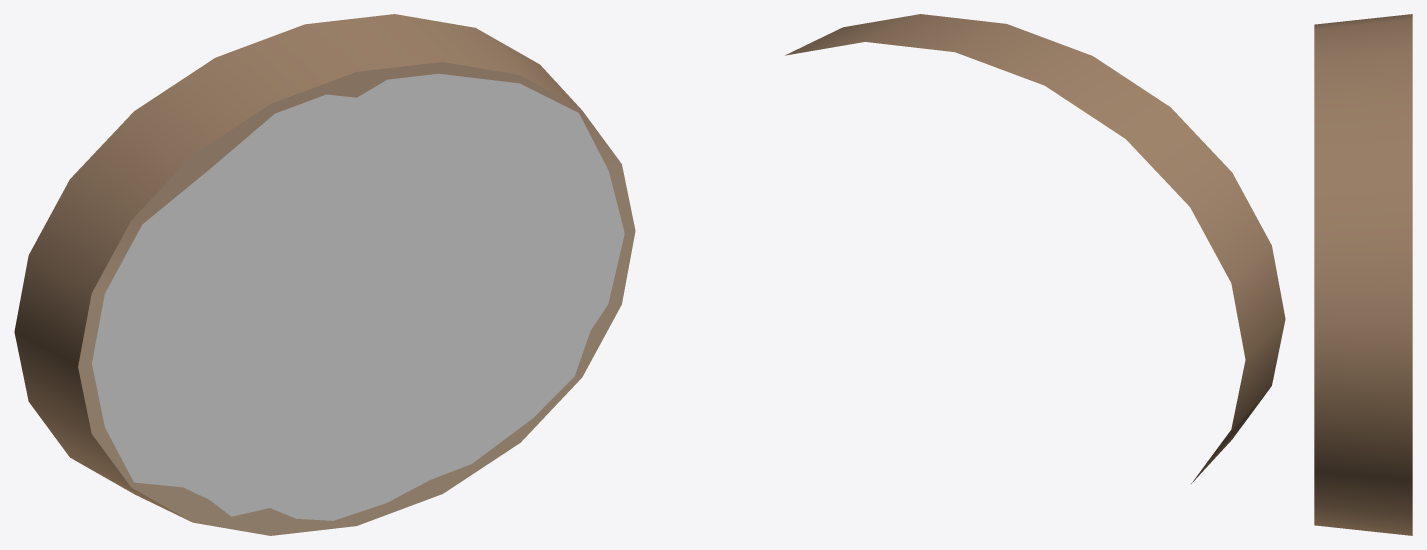
The model's file is RescueStationSign_5.glb.
3 renders of one model, left to right at view 1: azimuth 30°, elevation 25°; view 2: azimuth 150°, elevation 25°; view 3: azimuth 270°, elevation 25°, orthographic. The views are drawn at different scales.
Parts seen in each view (by area): view 1: RescueStationSign; view 2: RescueStationSign; view 3: RescueStationSign.
Boxes of the visible parts, box(x1,y1,x2,y2) form: RescueStationSign: box(14, 14, 635, 535); RescueStationSign: box(785, 14, 1285, 483); RescueStationSign: box(1314, 14, 1412, 535).
Size of the model in its own units: 2.04 by 1.59 by 0.3156.
